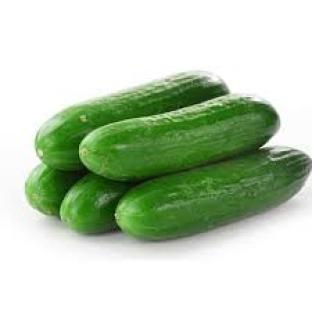Cucumber: (35, 73, 228, 170), (116, 147, 311, 239), (80, 95, 278, 180), (60, 174, 131, 234), (25, 164, 85, 216)
